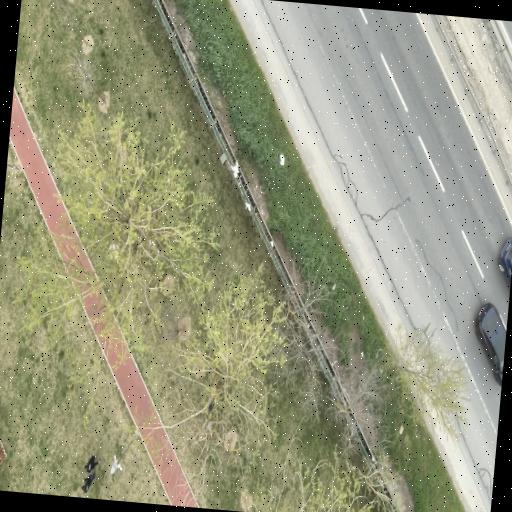car: (475, 302, 506, 385), (498, 237, 511, 286)
person: (84, 454, 99, 472), (81, 472, 94, 492)
